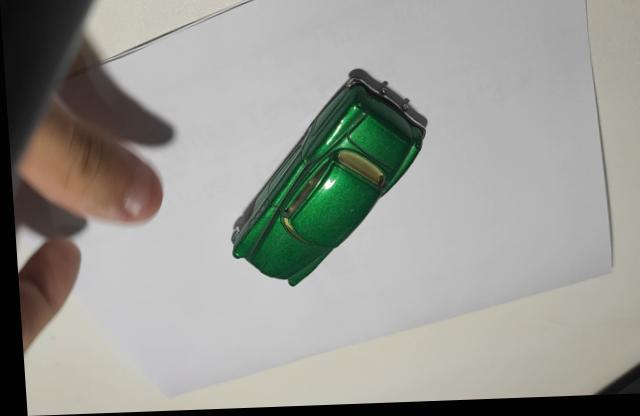06_MASERATI: (227, 70, 427, 287)
